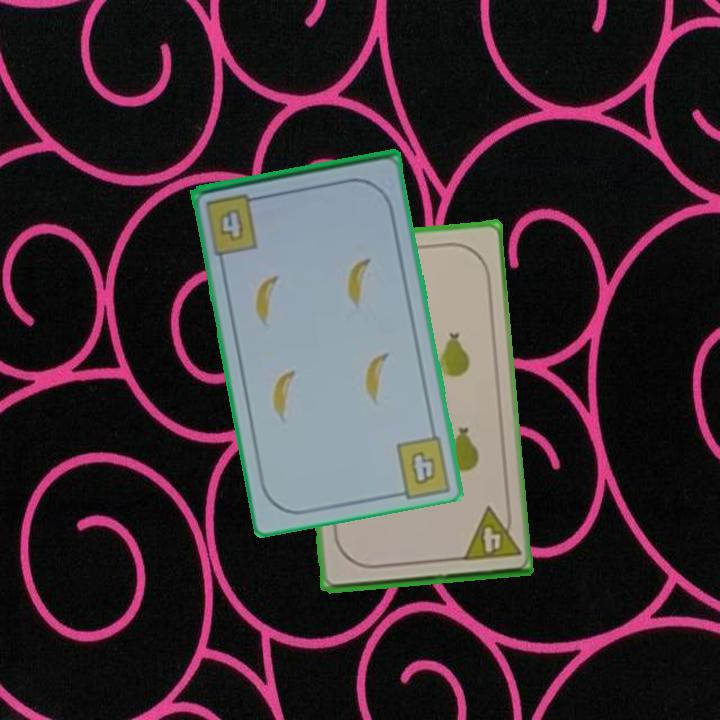4b: (202, 189, 267, 257), (407, 448, 440, 488)
4p: (458, 503, 523, 564)
